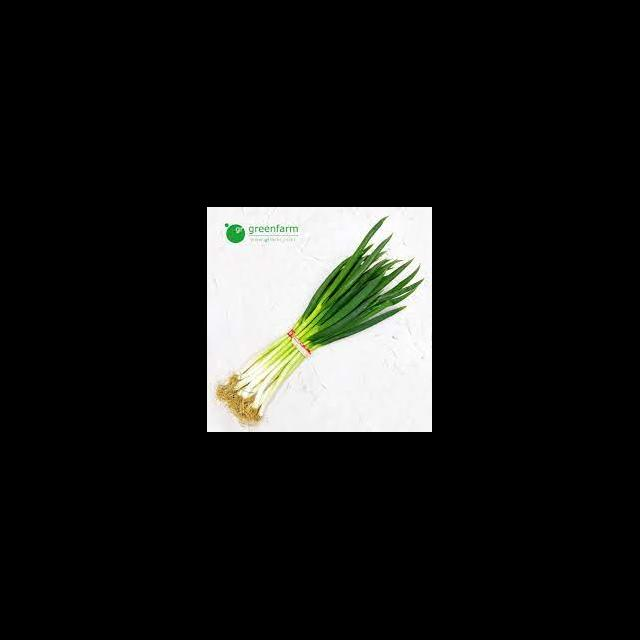green_onion: (218, 218, 424, 425)
